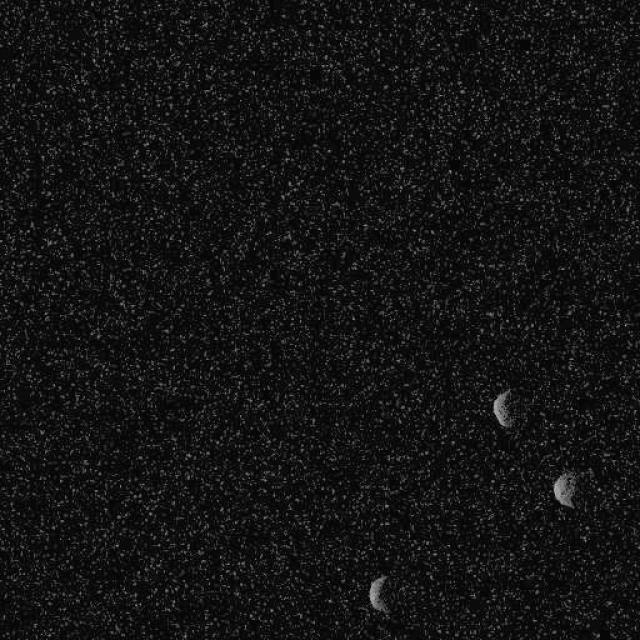D2: (552, 470, 578, 509), (491, 388, 515, 428), (368, 575, 390, 614)
